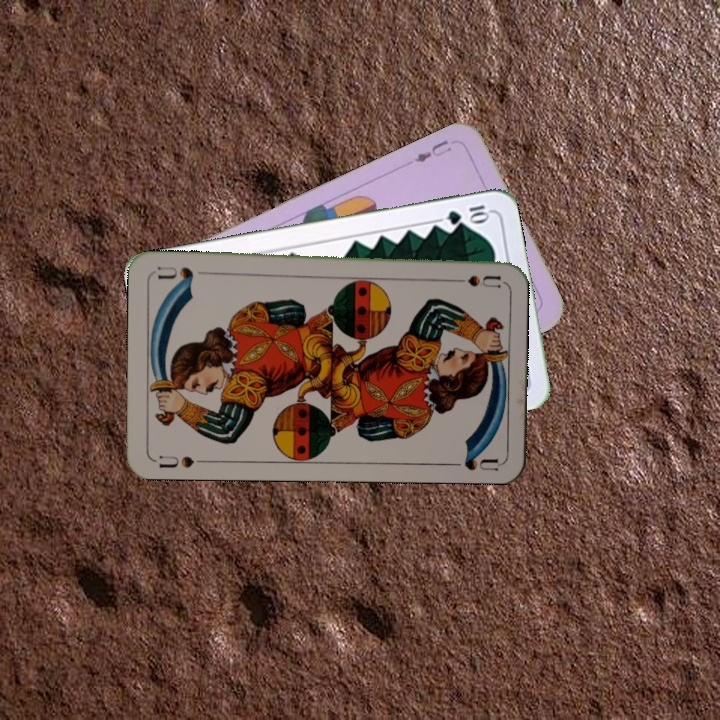EU: (410, 135, 455, 165)
G10: (443, 201, 492, 227)
SU: (443, 271, 502, 289), (151, 451, 197, 471)
